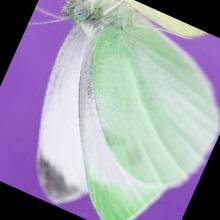butterfly: (37, 0, 220, 220)
